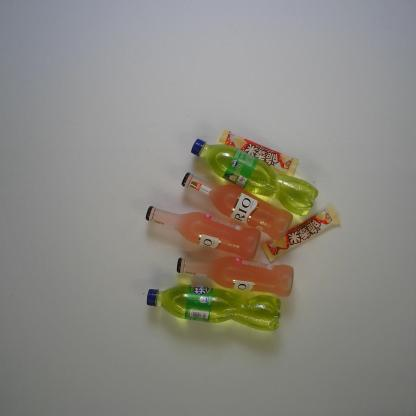Alcohol: (181, 172, 293, 242), (144, 205, 262, 260), (176, 255, 294, 297)
Chocolate: (260, 203, 342, 263), (216, 128, 300, 177)
Drink: (190, 138, 319, 217), (146, 284, 282, 332)
